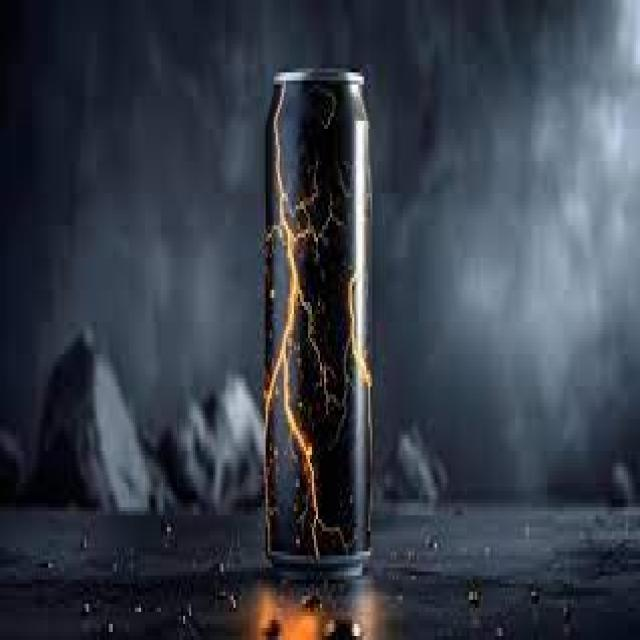Cans: (258, 52, 380, 592)
